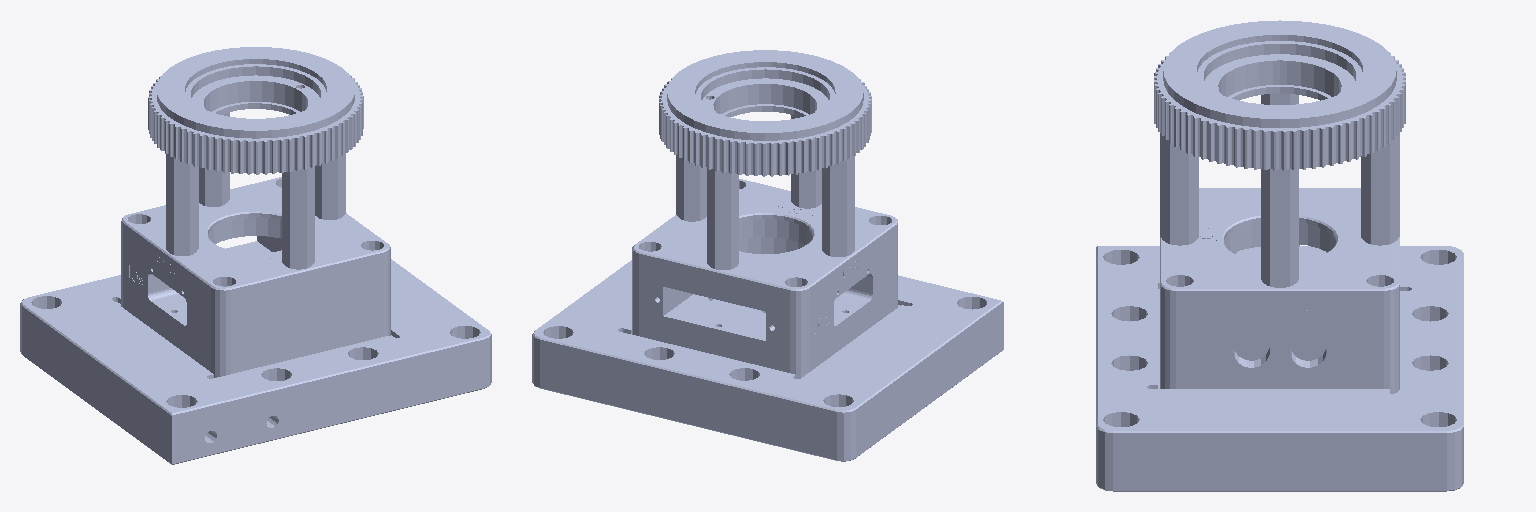
The robot description file, URDF, robot "dorna2-rebuild":
<?xml version="1.0" encoding="utf-8"?>
<!-- This URDF was automatically created by SolidWorks to URDF Exporter! Originally created by [author] ([email redacted]) 
     Commit Version: 1.6.0-4-g7f85cfe  Build Version: 1.6.7995.38578
     For more information, please see http://wiki.ros.org/sw_urdf_exporter -->
<robot
  name="dorna2-rebuild">
  <link
    name="arm-base">
    <inertial>
      <origin
        xyz="0.0130297713316107 -0.00114975966203177 -0.0374646293488068"
        rpy="0 0 0" />
      <mass
        value="0.722677101161874" />
      <inertia
        ixx="0.0007575085876277"
        ixy="1.73072475255338E-06"
        ixz="3.13516963406659E-07"
        iyy="0.00100766511534585"
        iyz="-3.27512956603854E-07"
        izz="0.00170957147677784" />
    </inertial>
    <visual>
      <origin
        xyz="0 0 0"
        rpy="0 0 0" />
      <geometry>
        <mesh
          filename="package://dorna2-rebuild/meshes/arm-base.STL" />
      </geometry>
      <material
        name="">
        <color
          rgba="0.792156862745098 0.819607843137255 0.933333333333333 1" />
      </material>
    </visual>
    <collision>
      <origin
        xyz="0 0 0"
        rpy="0 0 0" />
      <geometry>
        <mesh
          filename="package://dorna2-rebuild/meshes/arm-base.STL" />
      </geometry>
    </collision>
  </link>
  <link
    name="arm1">
    <inertial>
      <origin
        xyz="0.0319364391506851 -0.00685553927744708 0.0935995336561955"
        rpy="0 0 0" />
      <mass
        value="0.675270731859809" />
      <inertia
        ixx="0.000845244420426302"
        ixy="-1.2854424605343E-05"
        ixz="0.000448958622274107"
        iyy="0.00202049846041066"
        iyz="-2.15954334562878E-06"
        izz="0.00191415489362433" />
    </inertial>
    <visual>
      <origin
        xyz="0 0 0"
        rpy="0 0 0" />
      <geometry>
        <mesh
          filename="package://dorna2-rebuild/meshes/arm1.STL" />
      </geometry>
      <material
        name="">
        <color
          rgba="0.792156862745098 0.819607843137255 0.933333333333333 1" />
      </material>
    </visual>
    <collision>
      <origin
        xyz="0 0 0"
        rpy="0 0 0" />
      <geometry>
        <mesh
          filename="package://dorna2-rebuild/meshes/arm1.STL" />
      </geometry>
    </collision>
  </link>
  <joint
    name="arm1j"
    type="revolute">
    <origin
      xyz="0.012824 -0.0009058 0"
      rpy="0 0 0" />
    <parent
      link="arm-base" />
    <child
      link="arm1" />
    <axis
      xyz="0 0 1" />
    <limit
      lower="-175"
      upper="180"
      effort="0"
      velocity="0" />
  </joint>
  <link
    name="arm2">
    <inertial>
      <origin
        xyz="-0.0509684856540523 -0.00934921844811536 6.27172130210352E-06"
        rpy="0 0 0" />
      <mass
        value="0.271676192230468" />
      <inertia
        ixx="0.000109874068209706"
        ixy="-1.01611075762435E-08"
        ixz="-8.79674657870351E-09"
        iyy="0.00133562993036314"
        iyz="1.05928427865827E-11"
        izz="0.00129117502224423" />
    </inertial>
    <visual>
      <origin
        xyz="0 0 0"
        rpy="0 0 0" />
      <geometry>
        <mesh
          filename="package://dorna2-rebuild/meshes/arm2.STL" />
      </geometry>
      <material
        name="">
        <color
          rgba="0.792156862745098 0.819607843137255 0.933333333333333 1" />
      </material>
    </visual>
    <collision>
      <origin
        xyz="0 0 0"
        rpy="0 0 0" />
      <geometry>
        <mesh
          filename="package://dorna2-rebuild/meshes/arm2.STL" />
      </geometry>
    </collision>
  </link>
  <joint
    name="arm2-j"
    type="revolute">
    <origin
      xyz="-0.095476 0 0.17761"
      rpy="0 0 0" />
    <parent
      link="arm1" />
    <child
      link="arm2" />
    <axis
      xyz="0 -1 0" />
    <limit
      lower="-91"
      upper="181"
      effort="0"
      velocity="0" />
  </joint>
  <link
    name="arm3">
    <inertial>
      <origin
        xyz="-0.0310100738060076 0.00249857154557624 -5.11239799511065E-06"
        rpy="0 0 0" />
      <mass
        value="0.293438315476537" />
      <inertia
        ixx="6.73628408447047E-05"
        ixy="2.234556788685E-06"
        ixz="-3.7841356797735E-09"
        iyy="0.000573707689981916"
        iyz="3.24732920710982E-09"
        izz="0.000542174612171414" />
    </inertial>
    <visual>
      <origin
        xyz="0 0 0"
        rpy="0 0 0" />
      <geometry>
        <mesh
          filename="package://dorna2-rebuild/meshes/arm3.STL" />
      </geometry>
      <material
        name="">
        <color
          rgba="0.792156862745098 0.819607843137255 0.933333333333333 1" />
      </material>
    </visual>
    <collision>
      <origin
        xyz="0 0 0"
        rpy="0 0 0" />
      <geometry>
        <mesh
          filename="package://dorna2-rebuild/meshes/arm3.STL" />
      </geometry>
    </collision>
  </link>
  <joint
    name="arm3-j"
    type="revolute">
    <origin
      xyz="-0.2032 0.0009058 0"
      rpy="0 0 0" />
    <parent
      link="arm2" />
    <child
      link="arm3" />
    <axis
      xyz="0 -1 0" />
    <limit
      lower="-142"
      upper="142"
      effort="0"
      velocity="0" />
  </joint>
  <link
    name="wrist1">
    <inertial>
      <origin
        xyz="-3.36486224709054E-05 4.63814847724406E-05 -5.53353885601737E-07"
        rpy="0 0 0" />
      <mass
        value="0.0194666574215483" />
      <inertia
        ixx="6.42167054871909E-06"
        ixy="-3.72526965141416E-11"
        ixz="1.49920406135475E-08"
        iyy="1.94033958382409E-06"
        iyz="2.60500278060696E-12"
        izz="5.5184228436032E-06" />
    </inertial>
    <visual>
      <origin
        xyz="0 0 0"
        rpy="0 0 0" />
      <geometry>
        <mesh
          filename="package://dorna2-rebuild/meshes/wrist1.STL" />
      </geometry>
      <material
        name="">
        <color
          rgba="0.792156862745098 0.819607843137255 0.933333333333333 1" />
      </material>
    </visual>
    <collision>
      <origin
        xyz="0 0 0"
        rpy="0 0 0" />
      <geometry>
        <mesh
          filename="package://dorna2-rebuild/meshes/wrist1.STL" />
      </geometry>
    </collision>
  </link>
  <joint
    name="wrist1-j"
    type="revolute">
    <origin
      xyz="-0.1524 -0.0010033 0"
      rpy="0 0.016592 0" />
    <parent
      link="arm3" />
    <child
      link="wrist1" />
    <axis
      xyz="0 1 0" />
    <limit
      lower="-135"
      upper="135"
      effort="0"
      velocity="0" />
  </joint>
  <link
    name="wrist2">
    <inertial>
      <origin
        xyz="-0.0343695981308255 1.26294205991632E-08 -0.00113252449335743"
        rpy="0 0 0" />
      <mass
        value="0.0107694009383611" />
      <inertia
        ixx="8.95604606902058E-07"
        ixy="2.09045753590282E-12"
        ixz="-1.13747753917095E-07"
        iyy="3.78310186730164E-06"
        iyz="6.89832241320431E-13"
        izz="3.85897258651781E-06" />
    </inertial>
    <visual>
      <origin
        xyz="0 0 0"
        rpy="0 0 0" />
      <geometry>
        <mesh
          filename="package://dorna2-rebuild/meshes/wrist2.STL" />
      </geometry>
      <material
        name="">
        <color
          rgba="0.792156862745098 0.819607843137255 0.933333333333333 1" />
      </material>
    </visual>
  </link>
  <joint
    name="wrist2-j"
    type="revolute">
    <origin
      xyz="0 0 0"
      rpy="0 0 0" />
    <parent
      link="wrist1" />
    <child
      link="wrist2" />
    <axis
      xyz="-0.99986 0 -0.016592" />
    <limit
      lower="-360"
      upper="360"
      effort="0"
      velocity="0" />
  </joint>
  <link
    name="gripper">
    <inertial>
      <origin
        xyz="-0.070117 2.7856 1.1028"
        rpy="0 0 0" />
      <mass
        value="1.25" />
      <inertia
        ixx="0.00027027"
        ixy="1.465E-06"
        ixz="3.1416E-06"
        iyy="0.00026922"
        iyz="-1.5206E-07"
        izz="0.00034054" />
    </inertial>
    <visual>
      <origin
        xyz="0 0 0"
        rpy="0 0 0" />
      <geometry>
        <mesh
          filename="package://dorna2-rebuild/meshes/gripper.STL" />
      </geometry>
      <material
        name="">
        <color
          rgba="0.75294 0.75294 0.75294 1" />
      </material>
    </visual>
    <collision>
      <origin
        xyz="0 0 0"
        rpy="0 0 0" />
      <geometry>
        <mesh
          filename="package://dorna2-rebuild/meshes/gripper.STL" />
      </geometry>
    </collision>
  </link>
  <joint
    name="gripper-j"
    type="fixed">
    <origin
      xyz="0.021303 -2.739 -1.0897"
      rpy="-0.0018728 -0.016592 0" />
    <parent
      link="wrist2" />
    <child
      link="gripper" />
    <axis
      xyz="0 0 0" />
  </joint>
</robot>

--- Facts derived from the render (not from the file) ---
3 views of the same robot in one strip: view 1: azimuth 30°, elevation 25°; view 2: azimuth 150°, elevation 25°; view 3: azimuth 270°, elevation 25° (orthographic).
Robot: dorna2-rebuild — 7 links, 6 joints (5 revolute, 1 fixed); root link arm-base; default pose: all joints at 0.
Links seen in each view (by area): view 1: arm-base; view 2: arm-base; view 3: arm-base.
Boxes of the visible links, x1,y1,x2,y2 form: arm-base: (20, 47, 491, 464); arm-base: (532, 50, 1003, 461); arm-base: (1096, 20, 1463, 491).
Bounding box of the posed robot: 0.132 × 0.11 × 0.1087 m (x, y, z).
Meshes: 7 distinct files referenced, 1 mesh visuals loaded (1 binary STL); not drawn: 6 (reference not matched to a file when rendering).